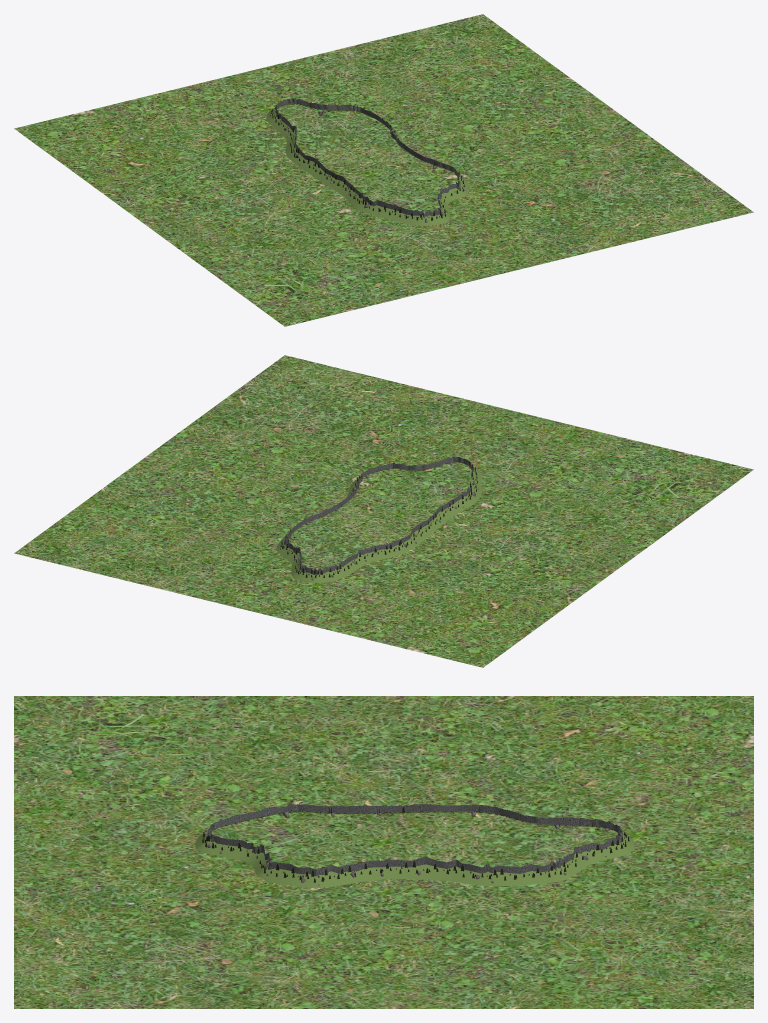
The picture shows the model from 3 angles, top to bottom: view 1: azimuth 30°, elevation 25°; view 2: azimuth 150°, elevation 25°; view 3: azimuth 270°, elevation 25°; orthographic projection. The views are drawn at different scales.
Parts seen in each view (by area): view 1: Plane, Wall_02, Wall_00, Wall_01, Wall_03; view 2: Plane, Wall_09, Wall_08, Wall_01, Wall_00; view 3: Plane, Wall_05, Wall_06, Wall_04, Wall_07, Wall_03, Wall_00, Wall_01, Wall_09, Wall_02, Wall_08.
Part boxes in pixels (x1,y1,x2,y2): Plane: (14, 14, 753, 326); Wall_02: (371, 200, 438, 225); Wall_00: (290, 148, 338, 187); Wall_01: (330, 175, 377, 214); Wall_03: (434, 183, 463, 224); Plane: (14, 355, 753, 667); Wall_09: (343, 539, 407, 573); Wall_08: (293, 561, 350, 582); Wall_01: (436, 483, 480, 522); Wall_00: (400, 511, 444, 551); Plane: (14, 696, 753, 1008); Wall_05: (340, 856, 456, 884); Wall_06: (451, 860, 553, 886); Wall_04: (256, 858, 344, 888); Wall_07: (550, 836, 628, 881); Wall_03: (195, 830, 269, 874); Wall_00: (373, 804, 478, 814); Wall_01: (270, 803, 373, 815); Wall_09: (478, 805, 579, 826); Wall_02: (195, 806, 275, 842); Wall_08: (579, 818, 634, 853).
Bounding box in the file's own units: 1400 × 34.15 × 1400.
